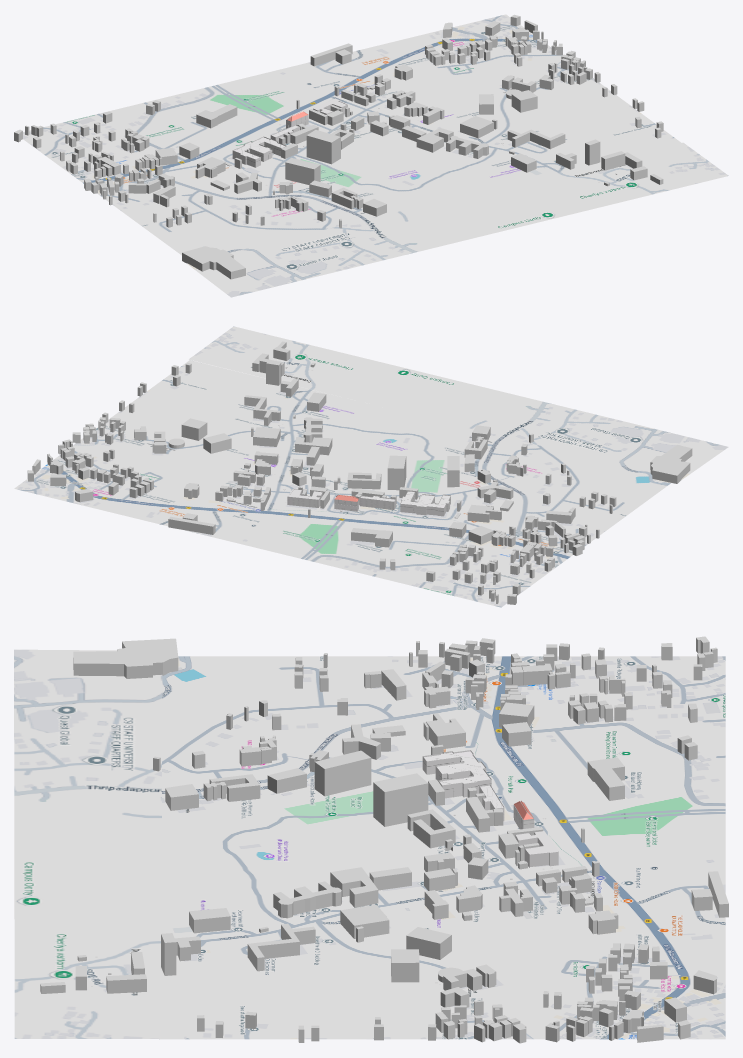
3 renders of one model, top to bottom at view 1: azimuth 30°, elevation 25°; view 2: azimuth 150°, elevation 25°; view 3: azimuth 270°, elevation 25°, orthographic. The views are drawn at different scales.
Visible parts, largest first — view 1: EXPORT_GOOGLE_MAP_WM, EXPORT_GOOGLE_MAP_WM.001, Leela building, Department_Of_Physics_Microwave_Materials, UGC - Human Resource Development Centre, FYUG_Girls_Hostel, Political Science, Economics, Sociology, History, Department of Future Studies, Kerala Highway Research Institute, 798419268, 1202708224, Cube; view 2: EXPORT_GOOGLE_MAP_WM, EXPORT_GOOGLE_MAP_WM.001, Leela building, UGC - Human Resource Development Centre, Department_Of_Physics_Microwave_Materials, Kerala Highway Research Institute, Political Science, Economics, Sociology, History, Det of Media & Journalism, School of Buisiness, Management & Legal Studies, 798419268, Science Block II, 225367091 (+3 smaller); view 3: EXPORT_GOOGLE_MAP_WM, EXPORT_GOOGLE_MAP_WM.001, Leela building, Department_Of_Physics_Microwave_Materials, UGC - Human Resource Development Centre, FYUG_Girls_Hostel, Political Science, Economics, Sociology, History, Department of Future Studies, 798419268, School of Buisiness, Management & Legal Studies, Kerala Highway Research Institute, 1202708224 (+16 smaller).
Boxes of the visible parts, <box> form: EXPORT_GOOGLE_MAP_WM: <box>23,14,681,255</box>; EXPORT_GOOGLE_MAP_WM.001: <box>186,142,728,297</box>; Leela building: <box>182,246,245,279</box>; Department_Of_Physics_Microwave_Materials: <box>306,130,340,164</box>; UGC - Human Resource Development Centre: <box>232,136,286,167</box>; FYUG_Girls_Hostel: <box>285,158,320,184</box>; Political Science, Economics, Sociology, History: <box>507,129,565,149</box>; Department of Future Studies: <box>446,135,488,158</box>; Kerala Highway Research Institute: <box>196,104,237,128</box>; 798419268: <box>416,128,453,152</box>; 1202708224: <box>460,116,493,138</box>; Cube: <box>511,90,537,112</box>; EXPORT_GOOGLE_MAP_WM: <box>14,360,670,607</box>; EXPORT_GOOGLE_MAP_WM.001: <box>189,326,728,480</box>; Leela building: <box>650,445,692,483</box>; UGC - Human Resource Development Centre: <box>400,490,450,516</box>; Department_Of_Physics_Microwave_Materials: <box>387,455,406,490</box>; Kerala Highway Research Institute: <box>351,528,392,547</box>; Political Science, Economics, Sociology, History: <box>244,395,280,425</box>; Det of Media & Journalism: <box>168,516,215,534</box>; School of Buisiness, Management & Legal Studies: <box>347,472,381,489</box>; 798419268: <box>295,437,332,455</box>; Science Block II: <box>287,489,322,507</box>; 225367091: <box>467,504,501,522</box>; EXPORT_GOOGLE_MAP_WM: <box>159,656,725,1039</box>; EXPORT_GOOGLE_MAP_WM.001: <box>14,649,162,1038</box>; Leela building: <box>73,638,178,678</box>; Department_Of_Physics_Microwave_Materials: <box>373,773,428,826</box>; UGC - Human Resource Development Centre: <box>422,750,491,798</box>; FYUG_Girls_Hostel: <box>314,750,371,796</box>; Political Science, Economics, Sociology, History: <box>247,923,315,971</box>; Department of Future Studies: <box>273,881,341,918</box>; 798419268: <box>330,867,378,907</box>; School of Buisiness, Management & Legal Studies: <box>407,809,455,848</box>; Kerala Highway Research Institute: <box>587,757,624,800</box>; 1202708224: <box>340,904,389,938</box>.
Size of what is drawn, in the model's own units: 1257 by 54.46 by 964.
4 materials, 4 textured.
